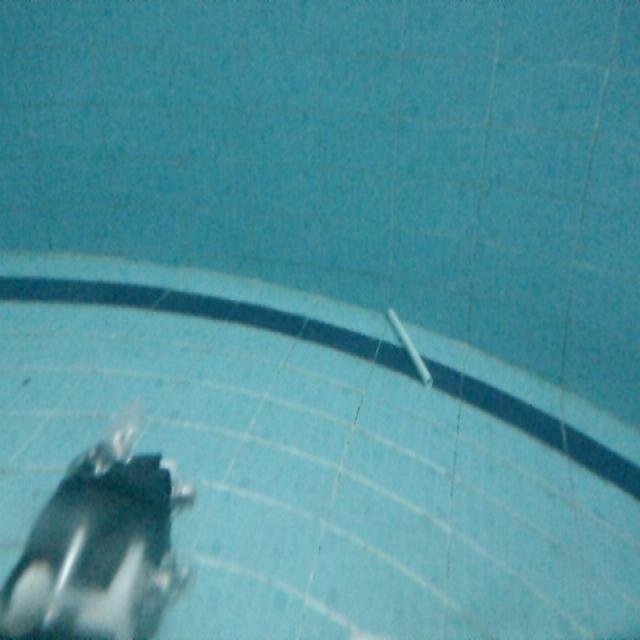Cube: (383, 302, 436, 388)
